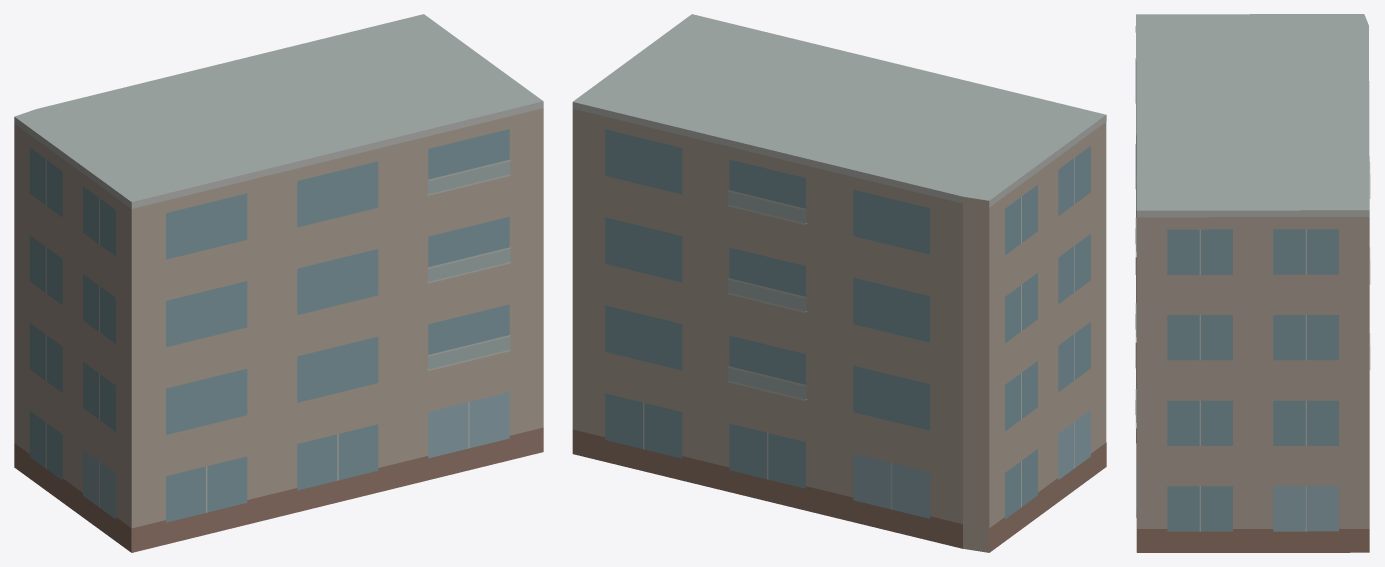
The model's file is survey-upis-32704606.glb.
The picture shows the model from 3 angles, left to right: view 1: azimuth 30°, elevation 25°; view 2: azimuth 150°, elevation 25°; view 3: azimuth 270°, elevation 25°; orthographic projection. The views are drawn at different scales.
Parts seen in each view (by area): view 1: survey-upis-32704606.tmp; view 2: survey-upis-32704606.tmp; view 3: survey-upis-32704606.tmp.
Boxes of the visible parts, x1,y1,x2,y2 form: survey-upis-32704606.tmp: [14, 14, 543, 552]; survey-upis-32704606.tmp: [572, 14, 1106, 552]; survey-upis-32704606.tmp: [1135, 14, 1370, 552].
Size of the model in its own units: 15.53 by 12.6 by 7.85.
